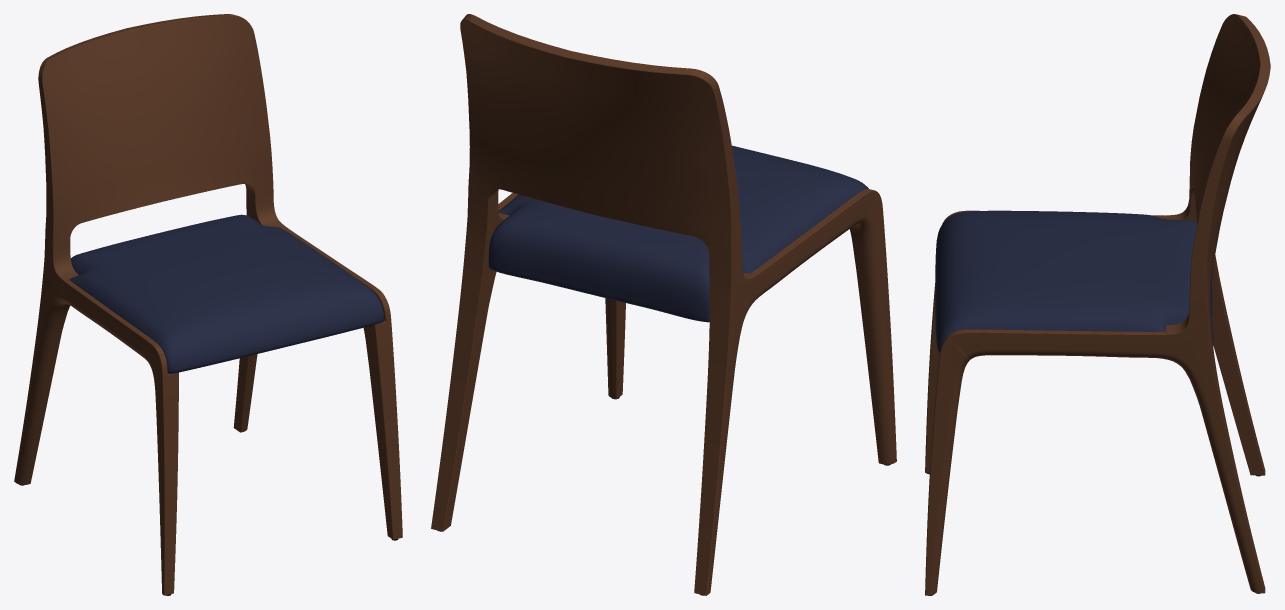
The model's file is chair_walnut.glb.
The picture shows the model from 3 angles, left to right: view 1: azimuth 30°, elevation 25°; view 2: azimuth 150°, elevation 25°; view 3: azimuth 270°, elevation 25°; orthographic projection. The views are drawn at different scales.
Parts seen in each view (by area): view 1: willisau_riale_obj; view 2: willisau_riale_obj; view 3: willisau_riale_obj.
Boxes of the visible parts, box(x1,y1,x2,y2) form: willisau_riale_obj: box(14, 14, 402, 595); willisau_riale_obj: box(431, 14, 896, 595); willisau_riale_obj: box(925, 14, 1270, 595).
Bounding box in the file's own units: 0.7826 × 1.34 × 0.8925.
